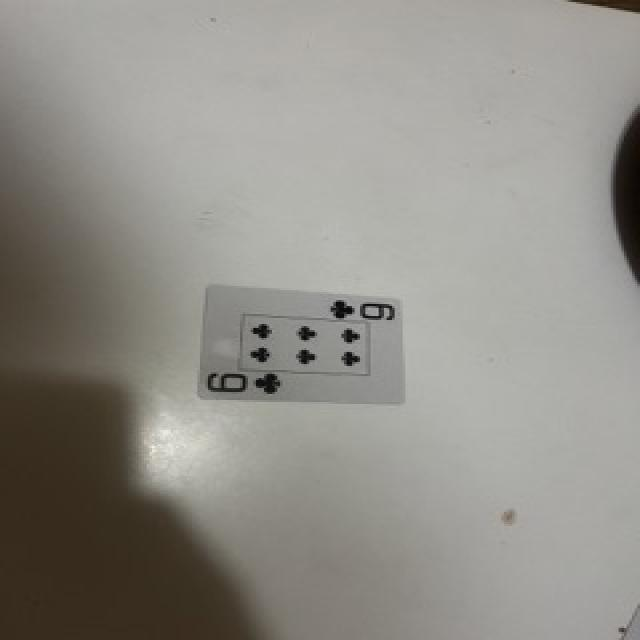6 of clubs: (201, 285, 403, 402)
